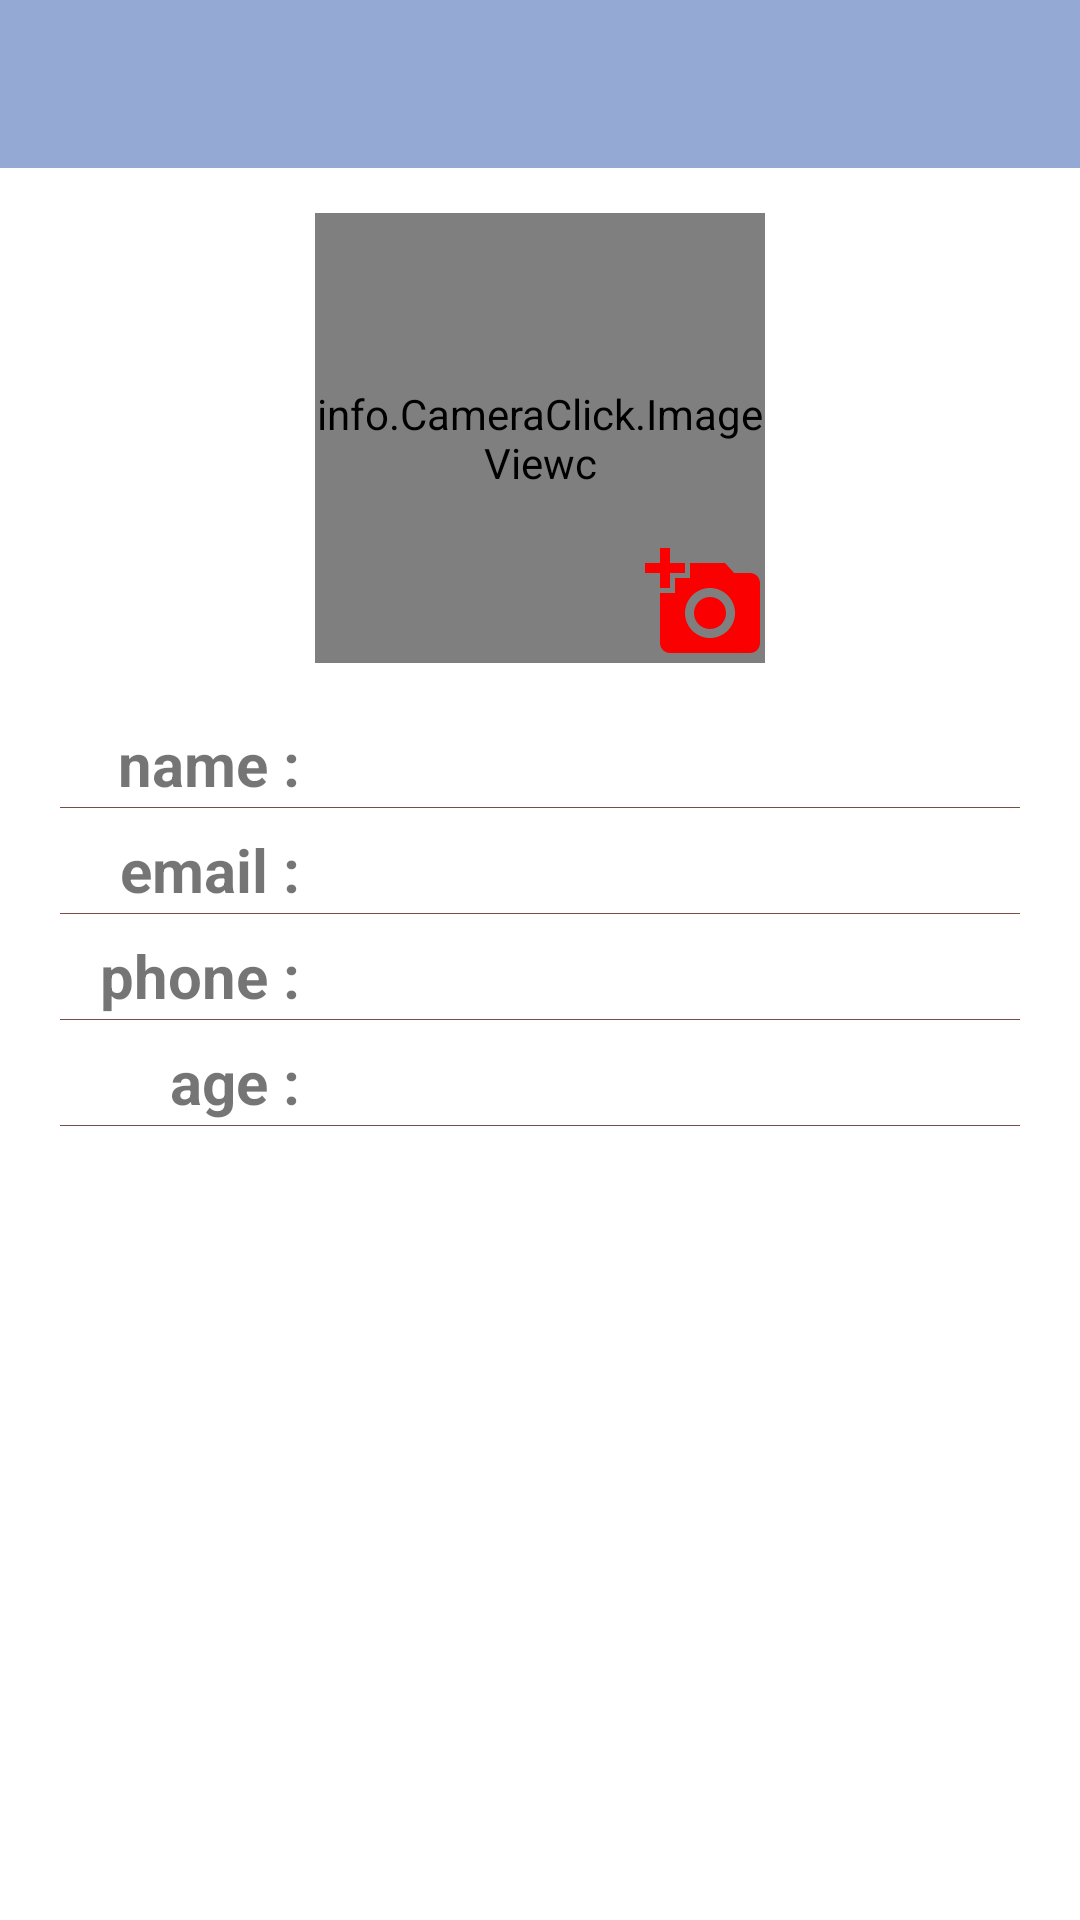

Icon bounding boxes for this 1080px×1920px phone screenshot, format (x1, y1, x2, y2):
add photo: (645, 548, 760, 653)
